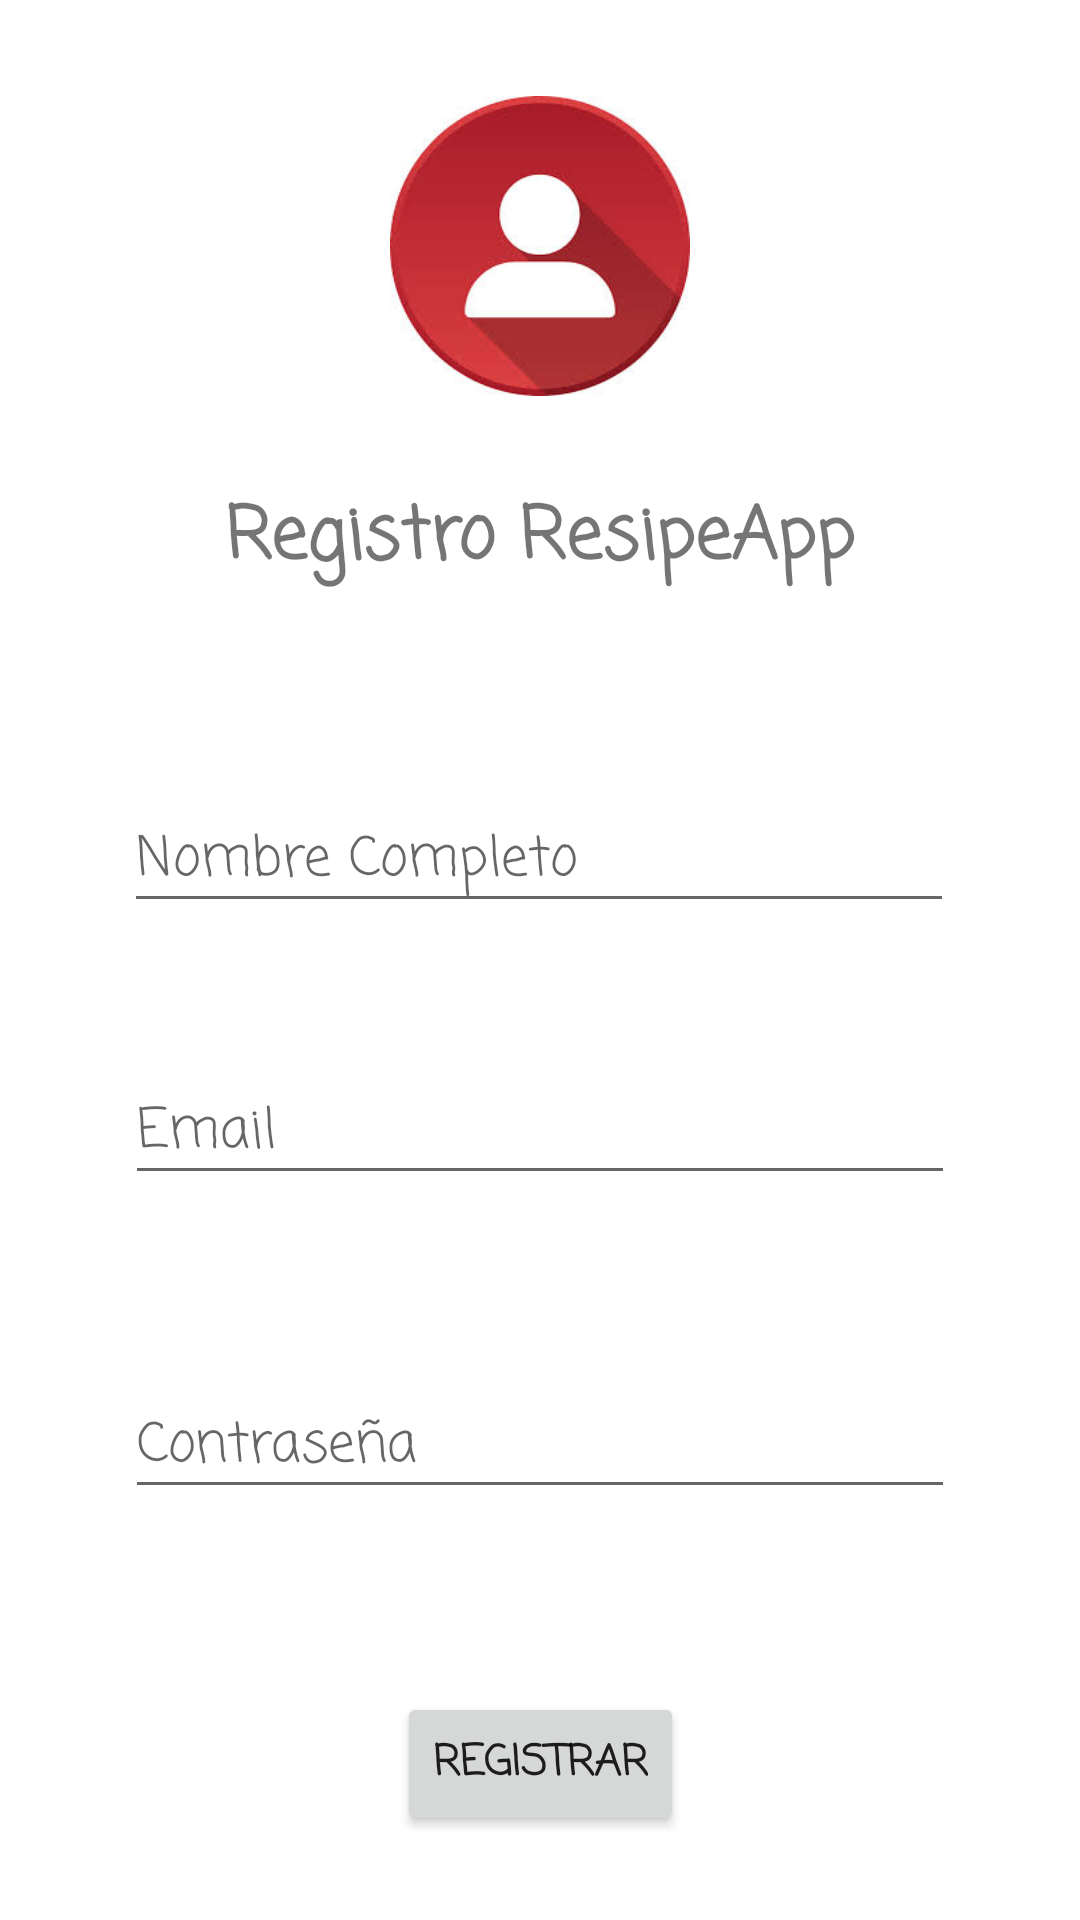

Where to tap for icons on this 1080 × 1920 app screen, as point (x, y):
login: point (540, 246)
